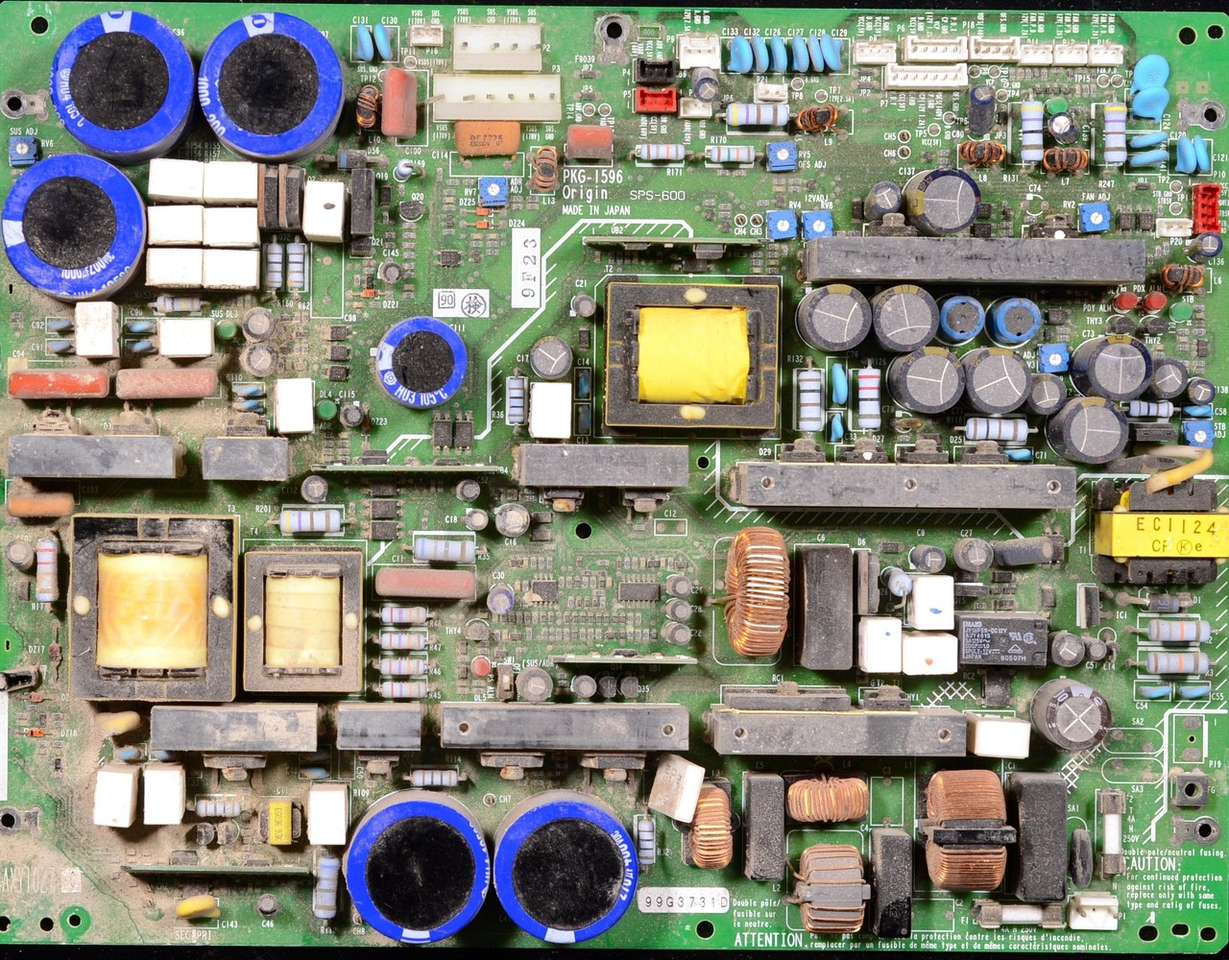Capacitor: (1043, 679, 1110, 757), (870, 281, 938, 353), (799, 287, 871, 347), (908, 174, 976, 237), (899, 346, 962, 414), (114, 365, 224, 402), (10, 368, 113, 407), (964, 350, 1029, 411), (1084, 335, 1144, 400), (1066, 396, 1127, 458), (381, 66, 426, 147), (453, 118, 520, 168), (4, 492, 71, 526), (561, 124, 614, 162), (1151, 359, 1194, 404), (1025, 371, 1066, 415), (1002, 534, 1055, 567), (239, 339, 282, 377), (531, 339, 570, 379), (1129, 85, 1170, 121), (1053, 629, 1087, 671), (95, 708, 139, 739), (970, 85, 1001, 129), (175, 896, 223, 923), (1131, 55, 1170, 88), (516, 670, 553, 703), (955, 540, 994, 571), (828, 358, 852, 408), (242, 310, 277, 344), (818, 31, 847, 72), (690, 64, 723, 100), (495, 505, 532, 537), (371, 22, 399, 64), (804, 35, 831, 77), (1127, 129, 1173, 151), (1048, 113, 1084, 141), (1129, 147, 1169, 172), (350, 21, 375, 61), (727, 33, 751, 74), (914, 544, 947, 573), (4, 538, 35, 568), (749, 34, 772, 74), (301, 475, 332, 504), (769, 34, 790, 75), (1177, 137, 1199, 176), (869, 182, 899, 210), (46, 336, 81, 360), (1190, 233, 1221, 260), (1134, 683, 1178, 702), (230, 396, 274, 415), (340, 403, 367, 432), (233, 378, 265, 402), (1194, 135, 1212, 177), (791, 37, 810, 76), (1190, 377, 1217, 403), (122, 339, 158, 358), (1182, 402, 1216, 422), (379, 259, 403, 287), (668, 619, 690, 649), (1178, 682, 1212, 701), (490, 589, 513, 617), (461, 473, 482, 503), (668, 596, 694, 620), (828, 409, 845, 444), (113, 742, 144, 761), (123, 317, 153, 336), (572, 292, 593, 319), (573, 674, 598, 696), (41, 318, 75, 334), (256, 892, 278, 914), (317, 398, 338, 419), (668, 575, 691, 594), (1004, 446, 1033, 460), (1090, 636, 1107, 659), (145, 749, 171, 764)
Resistor: (374, 567, 477, 602), (1130, 616, 1216, 646), (1137, 645, 1212, 676), (853, 364, 884, 433), (965, 413, 1033, 443), (313, 852, 340, 925), (1017, 100, 1047, 163), (278, 506, 343, 535), (32, 534, 59, 603), (1100, 102, 1129, 164), (412, 534, 484, 558), (727, 102, 792, 126), (375, 623, 429, 650), (376, 678, 434, 702), (377, 651, 427, 678), (286, 241, 311, 295), (634, 816, 660, 867), (883, 565, 919, 599), (154, 292, 205, 315), (264, 241, 286, 294), (376, 604, 431, 623), (191, 800, 240, 820), (1130, 399, 1174, 421), (638, 141, 685, 160), (410, 770, 459, 788), (708, 145, 758, 162), (394, 159, 415, 177)
